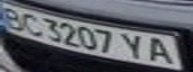0: (75, 24, 96, 52)
2: (57, 20, 78, 47)
3: (39, 16, 63, 43)
7: (93, 27, 118, 55)
A: (142, 35, 181, 65)
B: (0, 5, 30, 30)
C: (18, 10, 45, 38)
Y: (118, 30, 151, 61)
